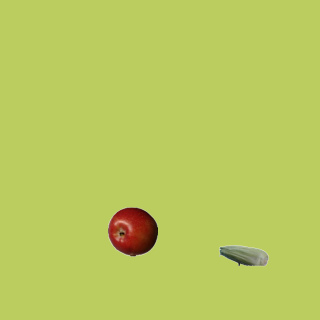Apple Braeburn: (107, 206, 157, 256)
Corn Husk: (218, 230, 268, 280)
